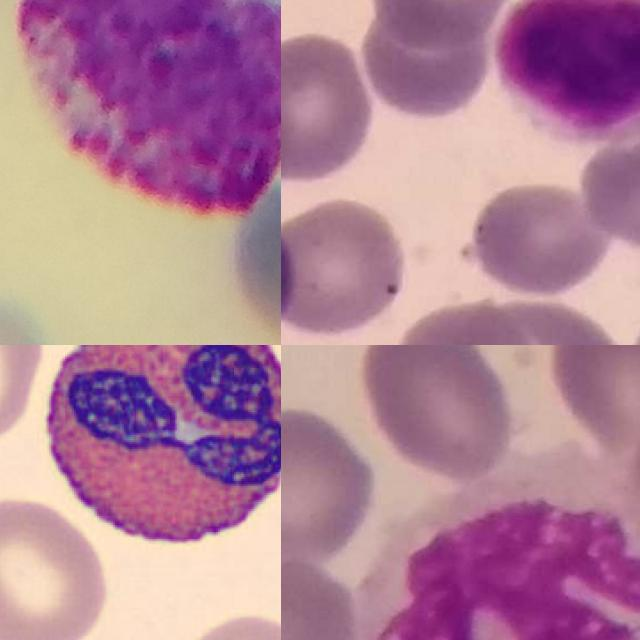Basophil: (17, 0, 281, 213)
Eosinophil: (25, 345, 281, 576)
Lymphocyte: (491, 0, 640, 146)
Monocyte: (367, 455, 640, 640)
RBC: (0, 489, 114, 640)
